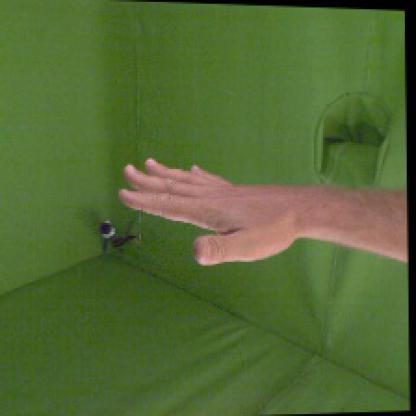Hand: (117, 157, 305, 266)
